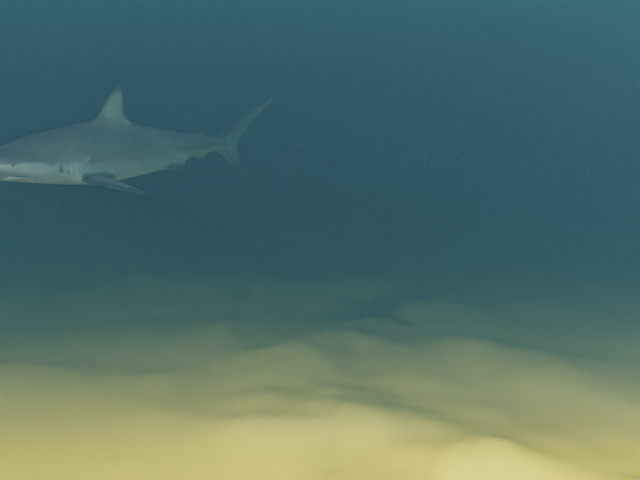Carribean Shark.001: (0, 84, 284, 194)
